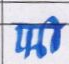i_matra: (46, 16, 60, 51)
